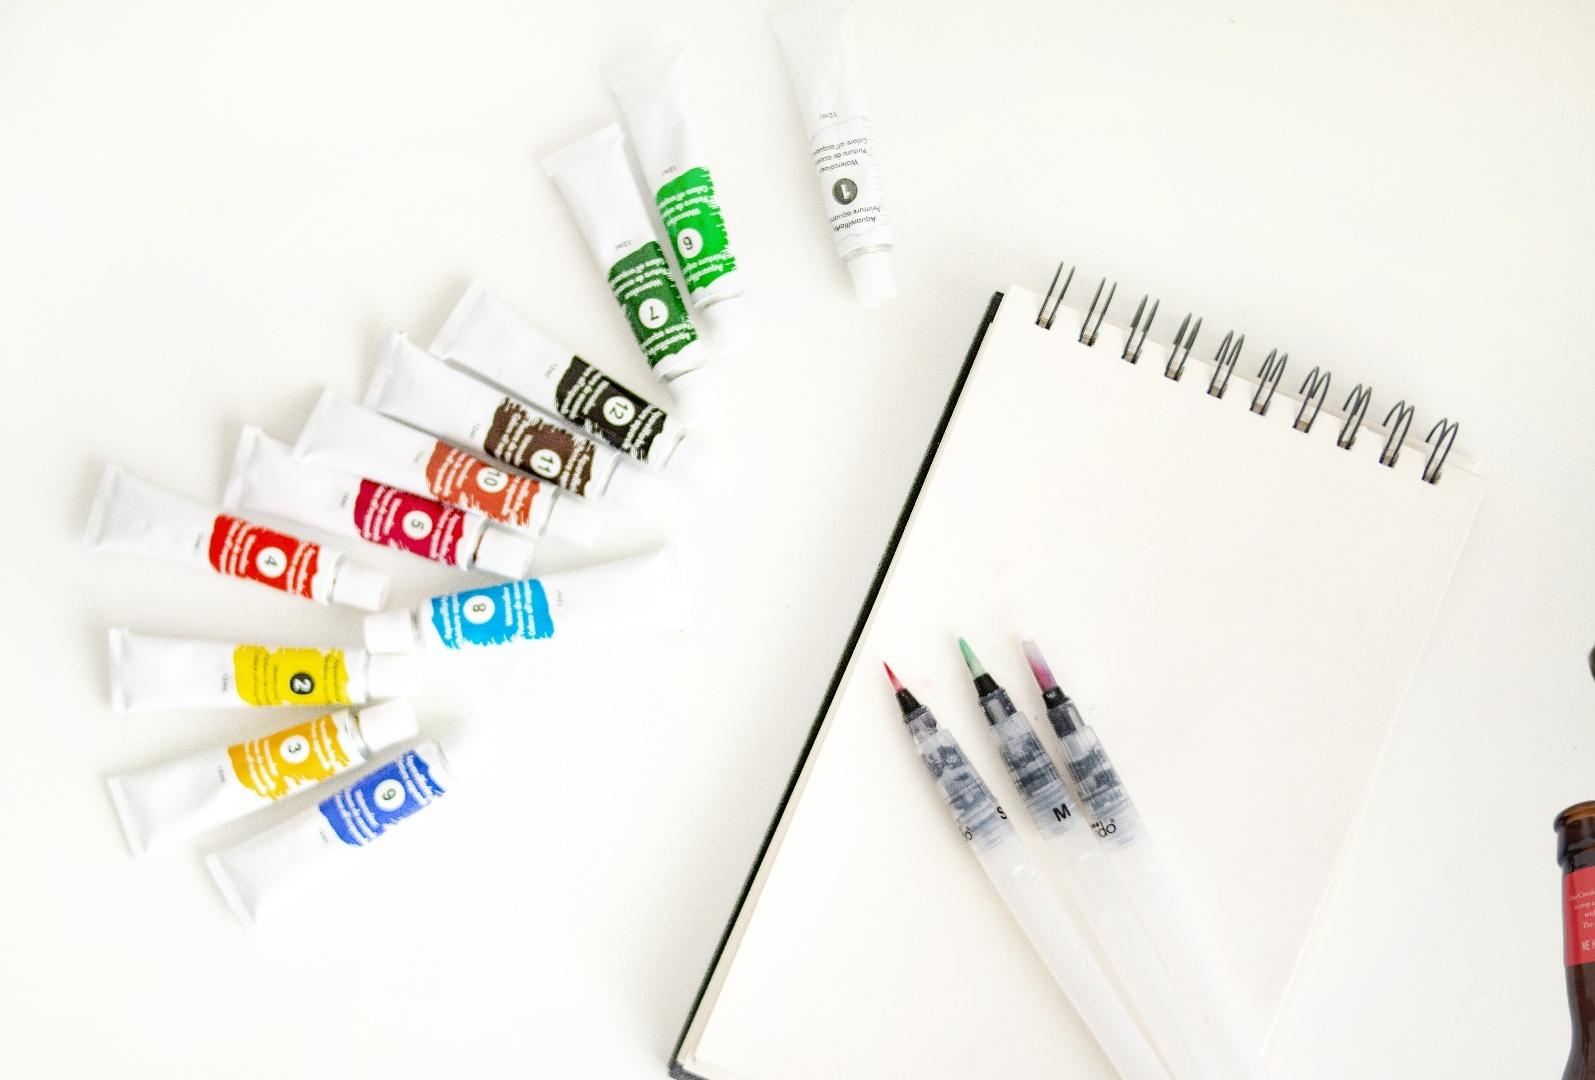glass: (1549, 798, 1595, 1080), (1584, 573, 1595, 718)
